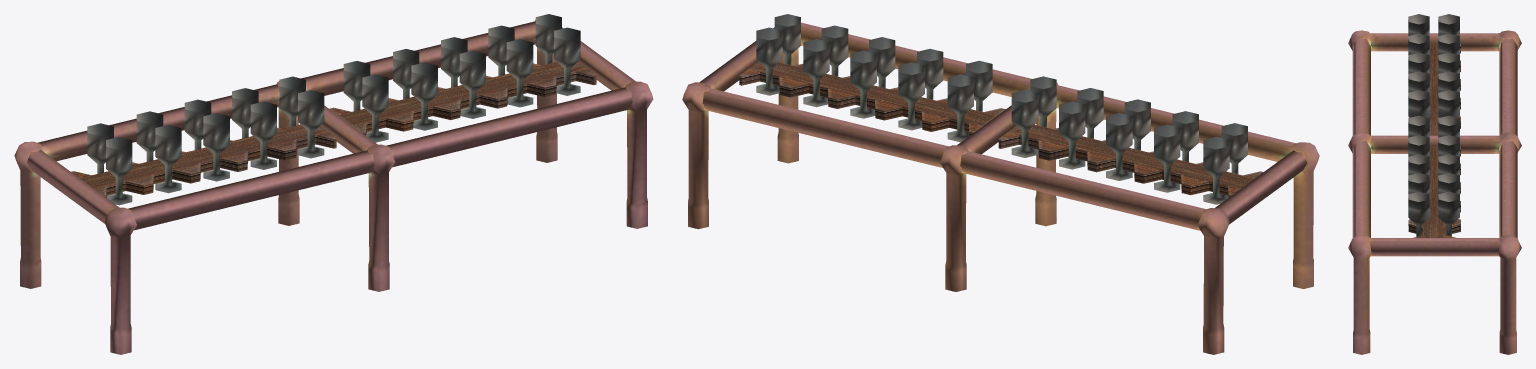
File: hanging_rack.fbx
3 views of the same model, side by side, from view 1: azimuth 30°, elevation 25°; view 2: azimuth 150°, elevation 25°; view 3: azimuth 270°, elevation 25° (orthographic). The views are drawn at different scales.
Visible parts, largest first — view 1: mesh_1, mesh_0, mesh_3, mesh_2; view 2: mesh_1, mesh_0, mesh_3, mesh_2; view 3: mesh_1, mesh_0, mesh_3, mesh_2.
Boxes of the visible parts, x1,y1,x2,y2 form: mesh_1: (14, 19, 653, 354); mesh_0: (87, 14, 580, 205); mesh_3: (329, 61, 596, 135); mesh_2: (71, 124, 336, 197); mesh_1: (682, 22, 1319, 354); mesh_0: (756, 14, 1247, 204); mesh_3: (739, 61, 1005, 135); mesh_2: (998, 125, 1263, 197); mesh_1: (1348, 30, 1521, 354); mesh_0: (1408, 14, 1459, 236); mesh_3: (1408, 146, 1460, 237); mesh_2: (1408, 43, 1460, 135).
Bounding box in the file's own units: 206 × 62.15 × 69.89.
3 materials, 3 textured.
